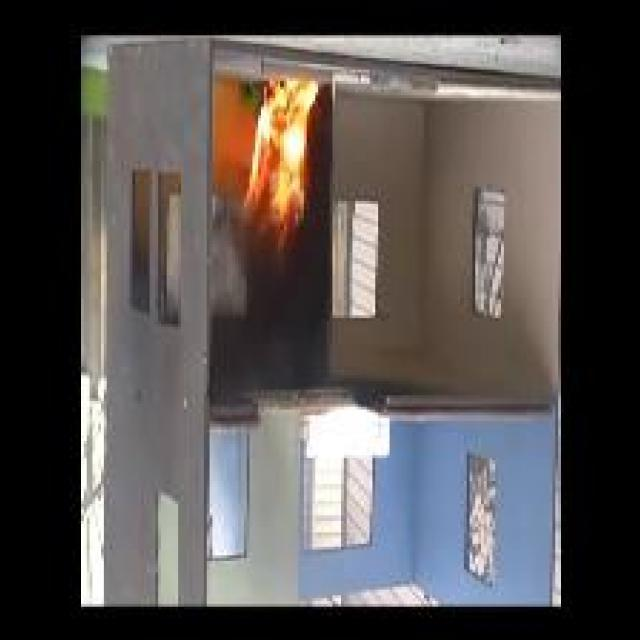Fire: (242, 81, 314, 253)
